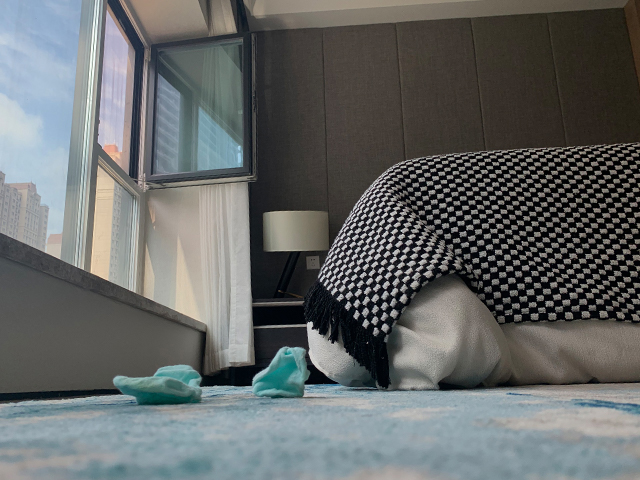bed: (303, 142, 640, 392)
cabinet: (248, 297, 313, 387)
carpet: (1, 381, 640, 480)
curtain: (195, 1, 257, 379)
socks: (109, 364, 204, 406), (249, 344, 311, 400)
